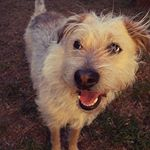puppy: (24, 6, 147, 150)
